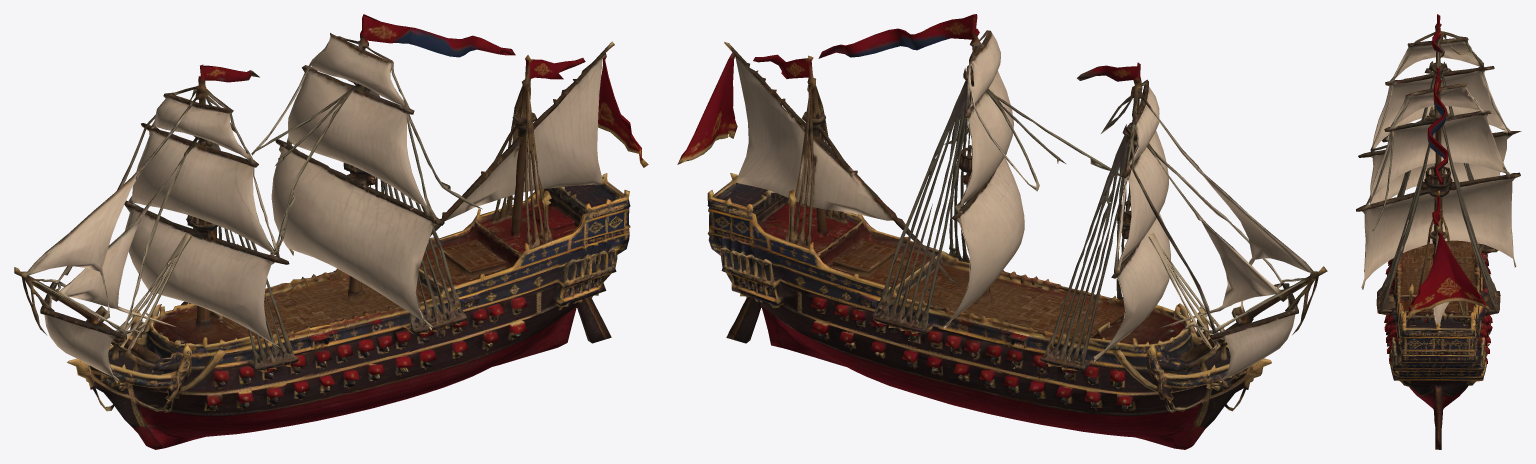
File: osmanli-kalyonu-1682-1700-tripo-v1.glb
The picture shows the model from 3 angles, left to right: view 1: azimuth 30°, elevation 25°; view 2: azimuth 150°, elevation 25°; view 3: azimuth 270°, elevation 25°; orthographic projection. The views are drawn at different scales.
Visible parts, largest first — view 1: tripo_node_7f8d4445-a8b8-45ac-bdc5-c933324e845d; view 2: tripo_node_7f8d4445-a8b8-45ac-bdc5-c933324e845d; view 3: tripo_node_7f8d4445-a8b8-45ac-bdc5-c933324e845d.
Part boxes in pixels (x1=…): tripo_node_7f8d4445-a8b8-45ac-bdc5-c933324e845d: x1=14, y1=14, x2=648, y2=449; tripo_node_7f8d4445-a8b8-45ac-bdc5-c933324e845d: x1=677, y1=14, x2=1327, y2=449; tripo_node_7f8d4445-a8b8-45ac-bdc5-c933324e845d: x1=1356, y1=14, x2=1521, y2=449.
Size of the model in its own units: 1 by 0.5951 by 0.3055.
Materials: 1 (1 with a texture image).
